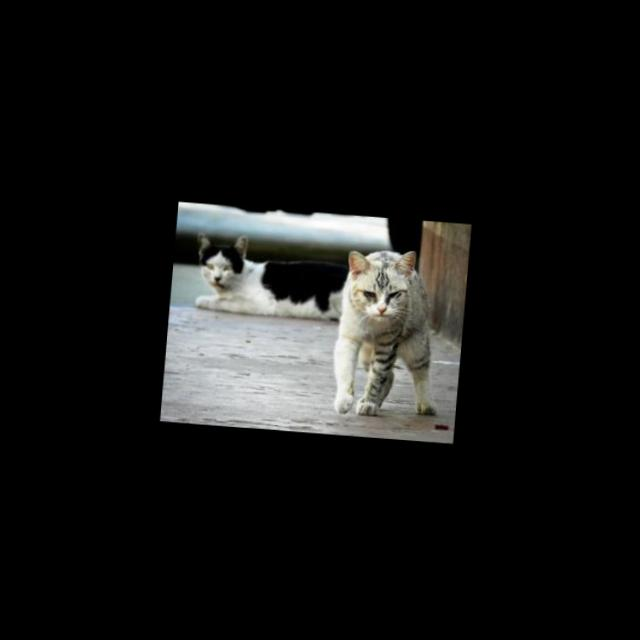animals: (328, 241, 455, 421), (186, 226, 346, 323)
